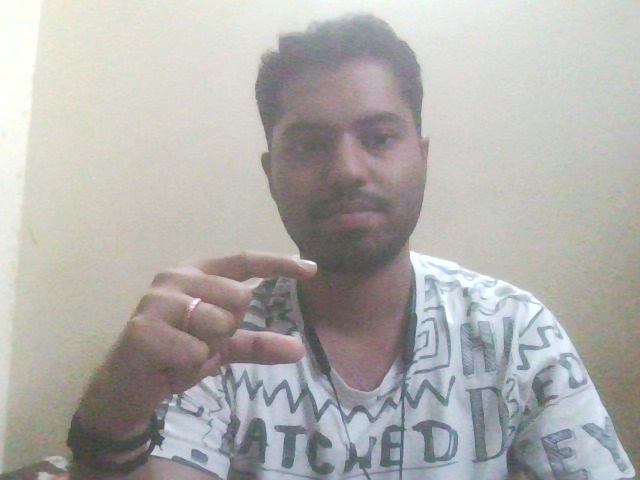Q: (76, 235, 322, 424)
